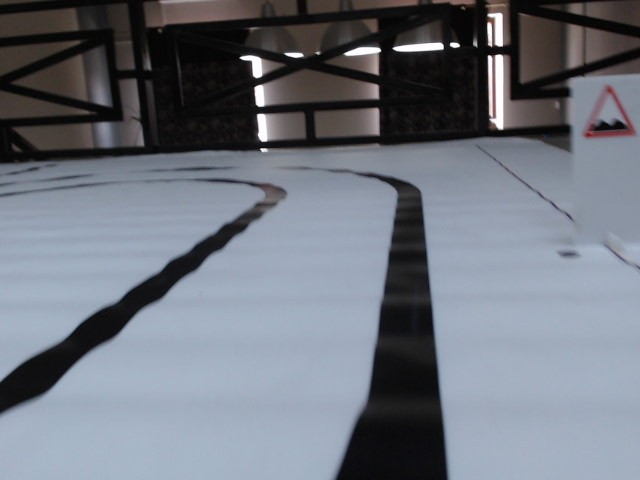Nerov: (577, 83, 640, 145)
